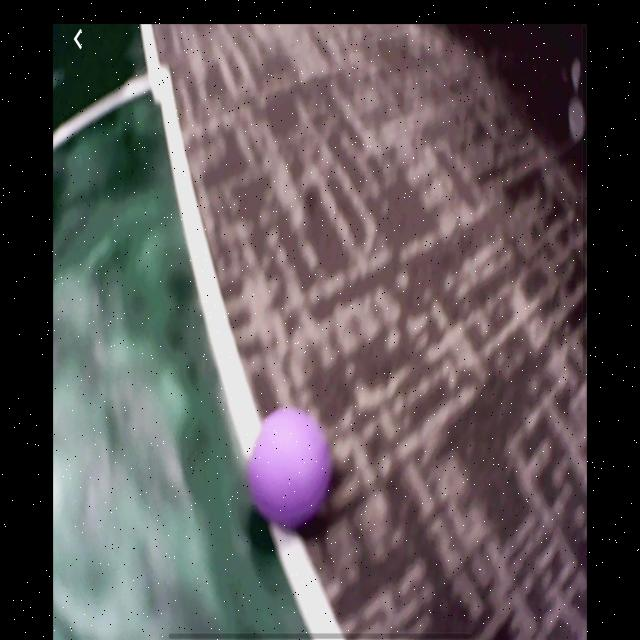ball: (247, 411, 336, 518)
